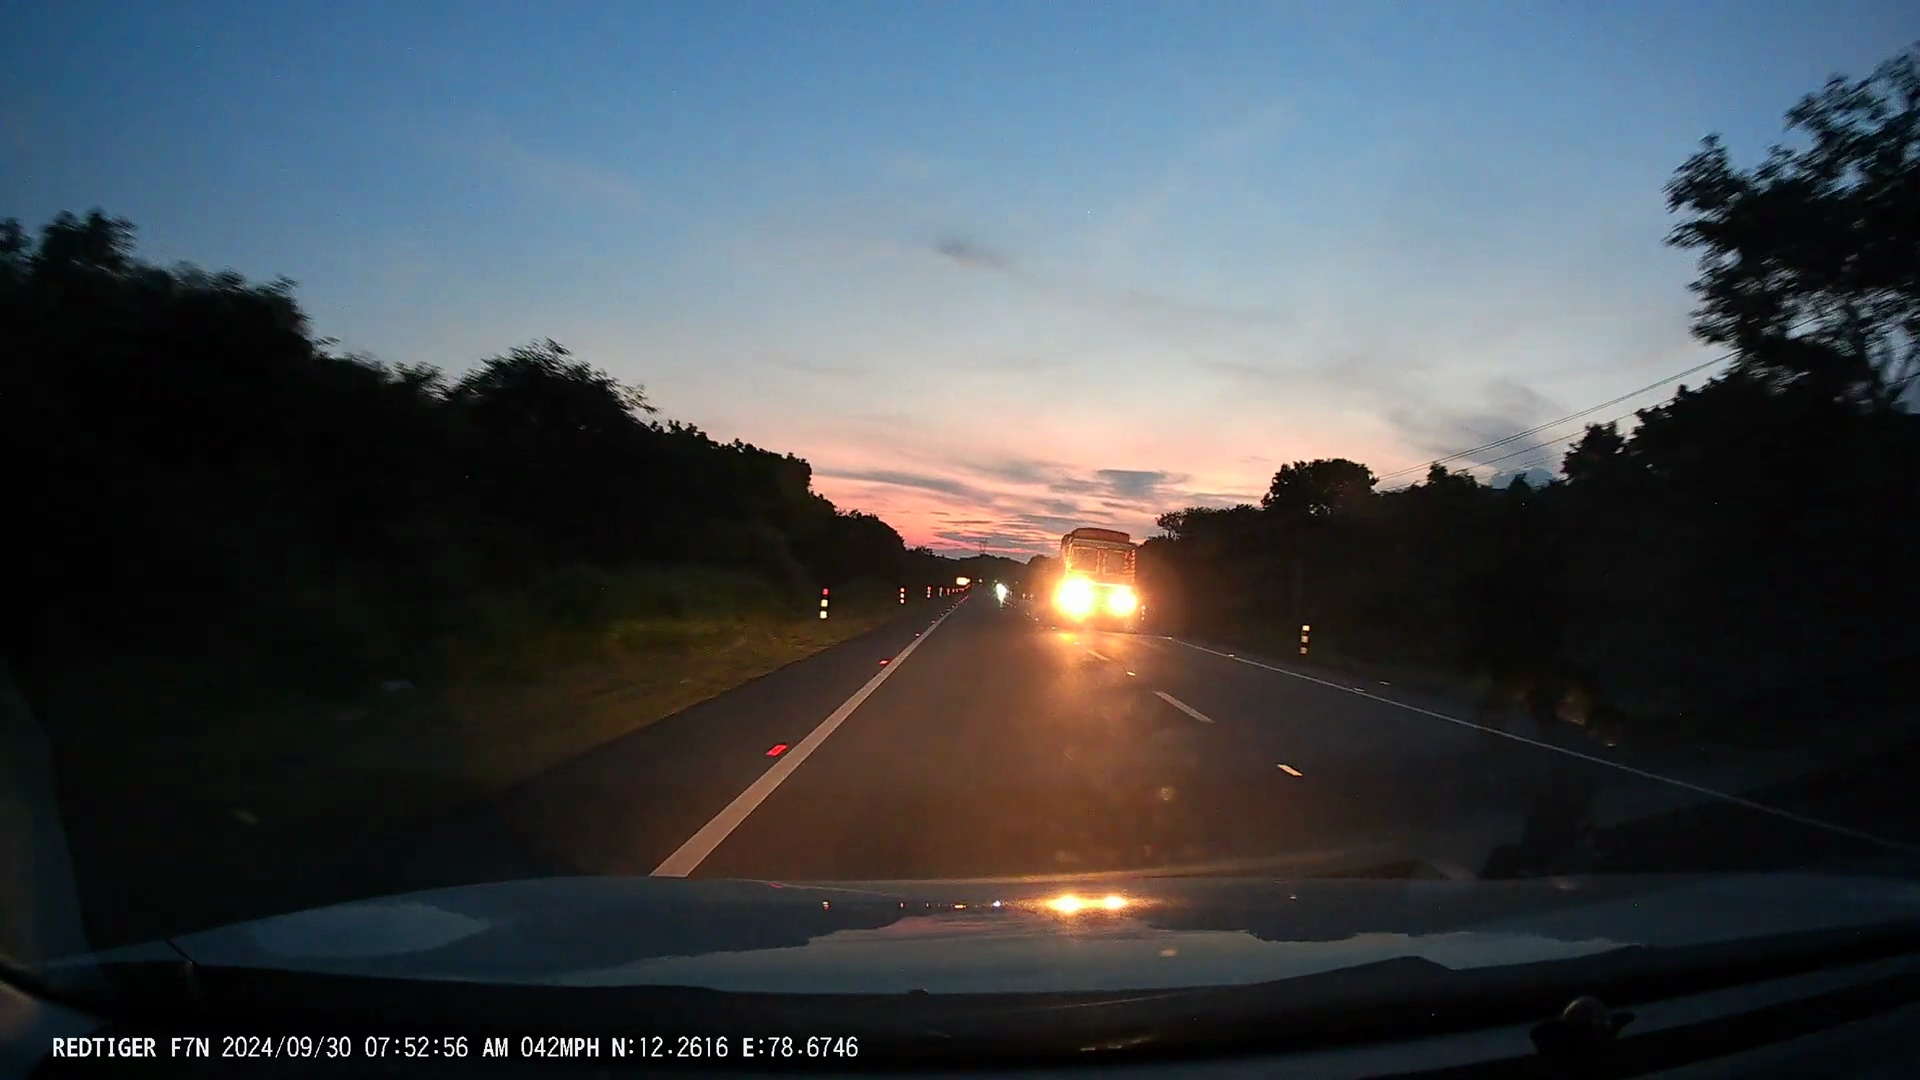four wheeler: (1031, 522, 1143, 634)
headlight: (1043, 572, 1101, 626), (1109, 576, 1139, 622), (992, 583, 1010, 607)
two wheeler: (988, 574, 1018, 618)
